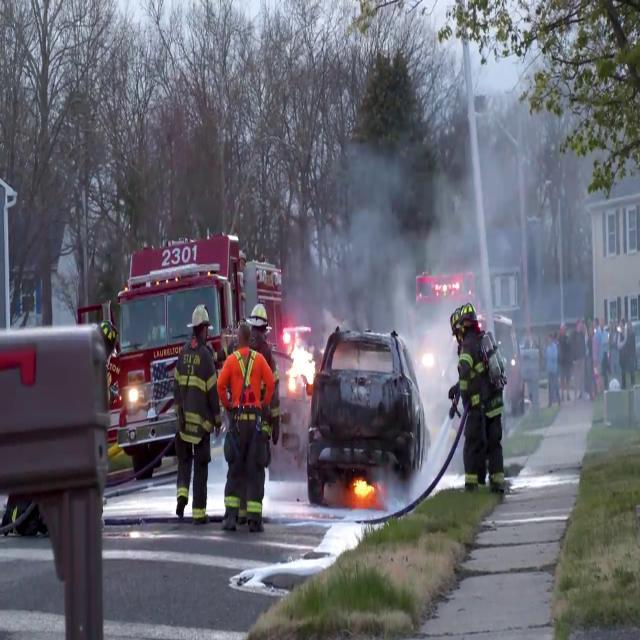Fire: (283, 322, 317, 394), (350, 470, 376, 507)
Smoke: (312, 16, 630, 368)
